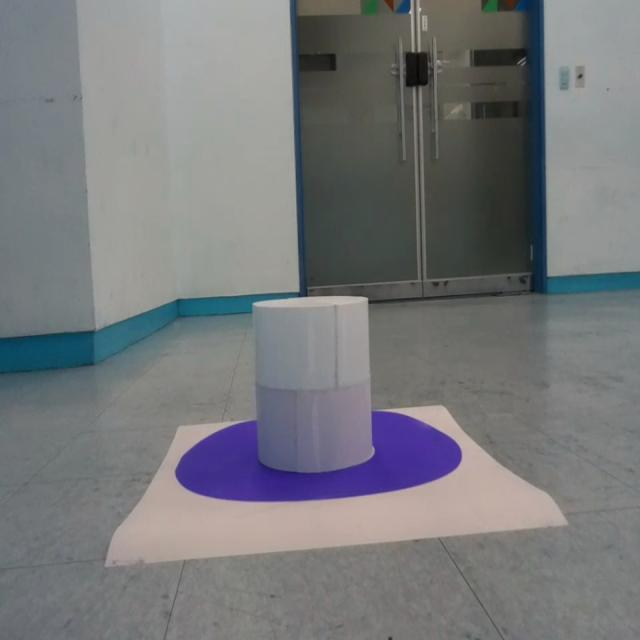cylinder: (251, 294, 374, 473)
